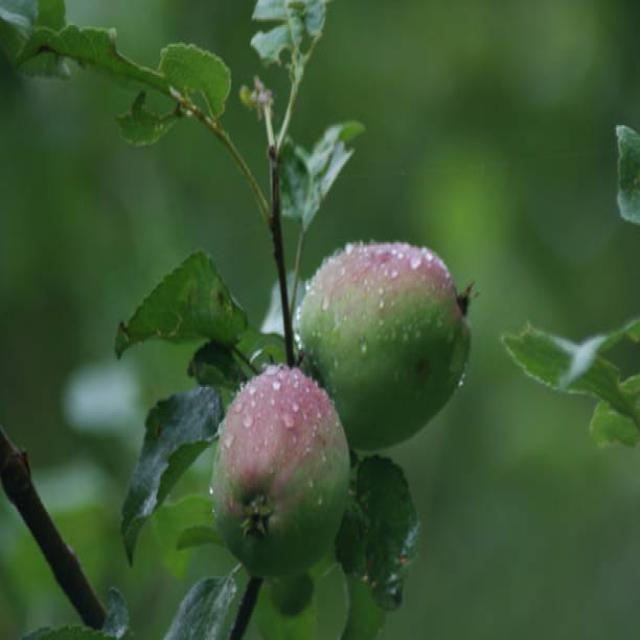Unripe: (294, 232, 469, 452), (211, 366, 350, 573)
